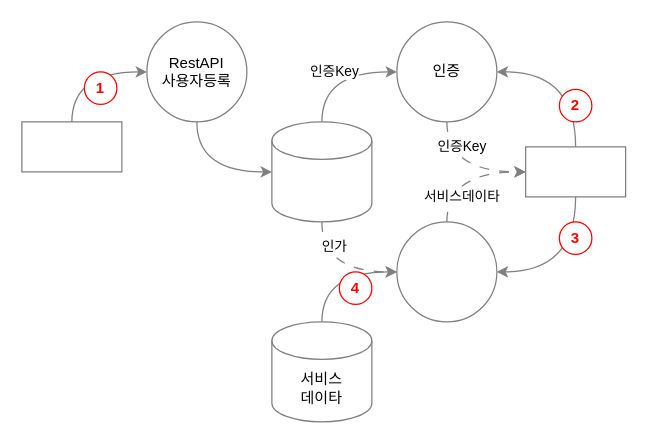
This 648x444 diagram has some shape labels left out. Each missing label, with the box of its shape:
RestAPI 인증/인가: (271, 121, 372, 222)
기기/사용자: (524, 146, 626, 197)
서비스 RestAPI: (396, 221, 497, 322)
운영자: (21, 121, 122, 172)
